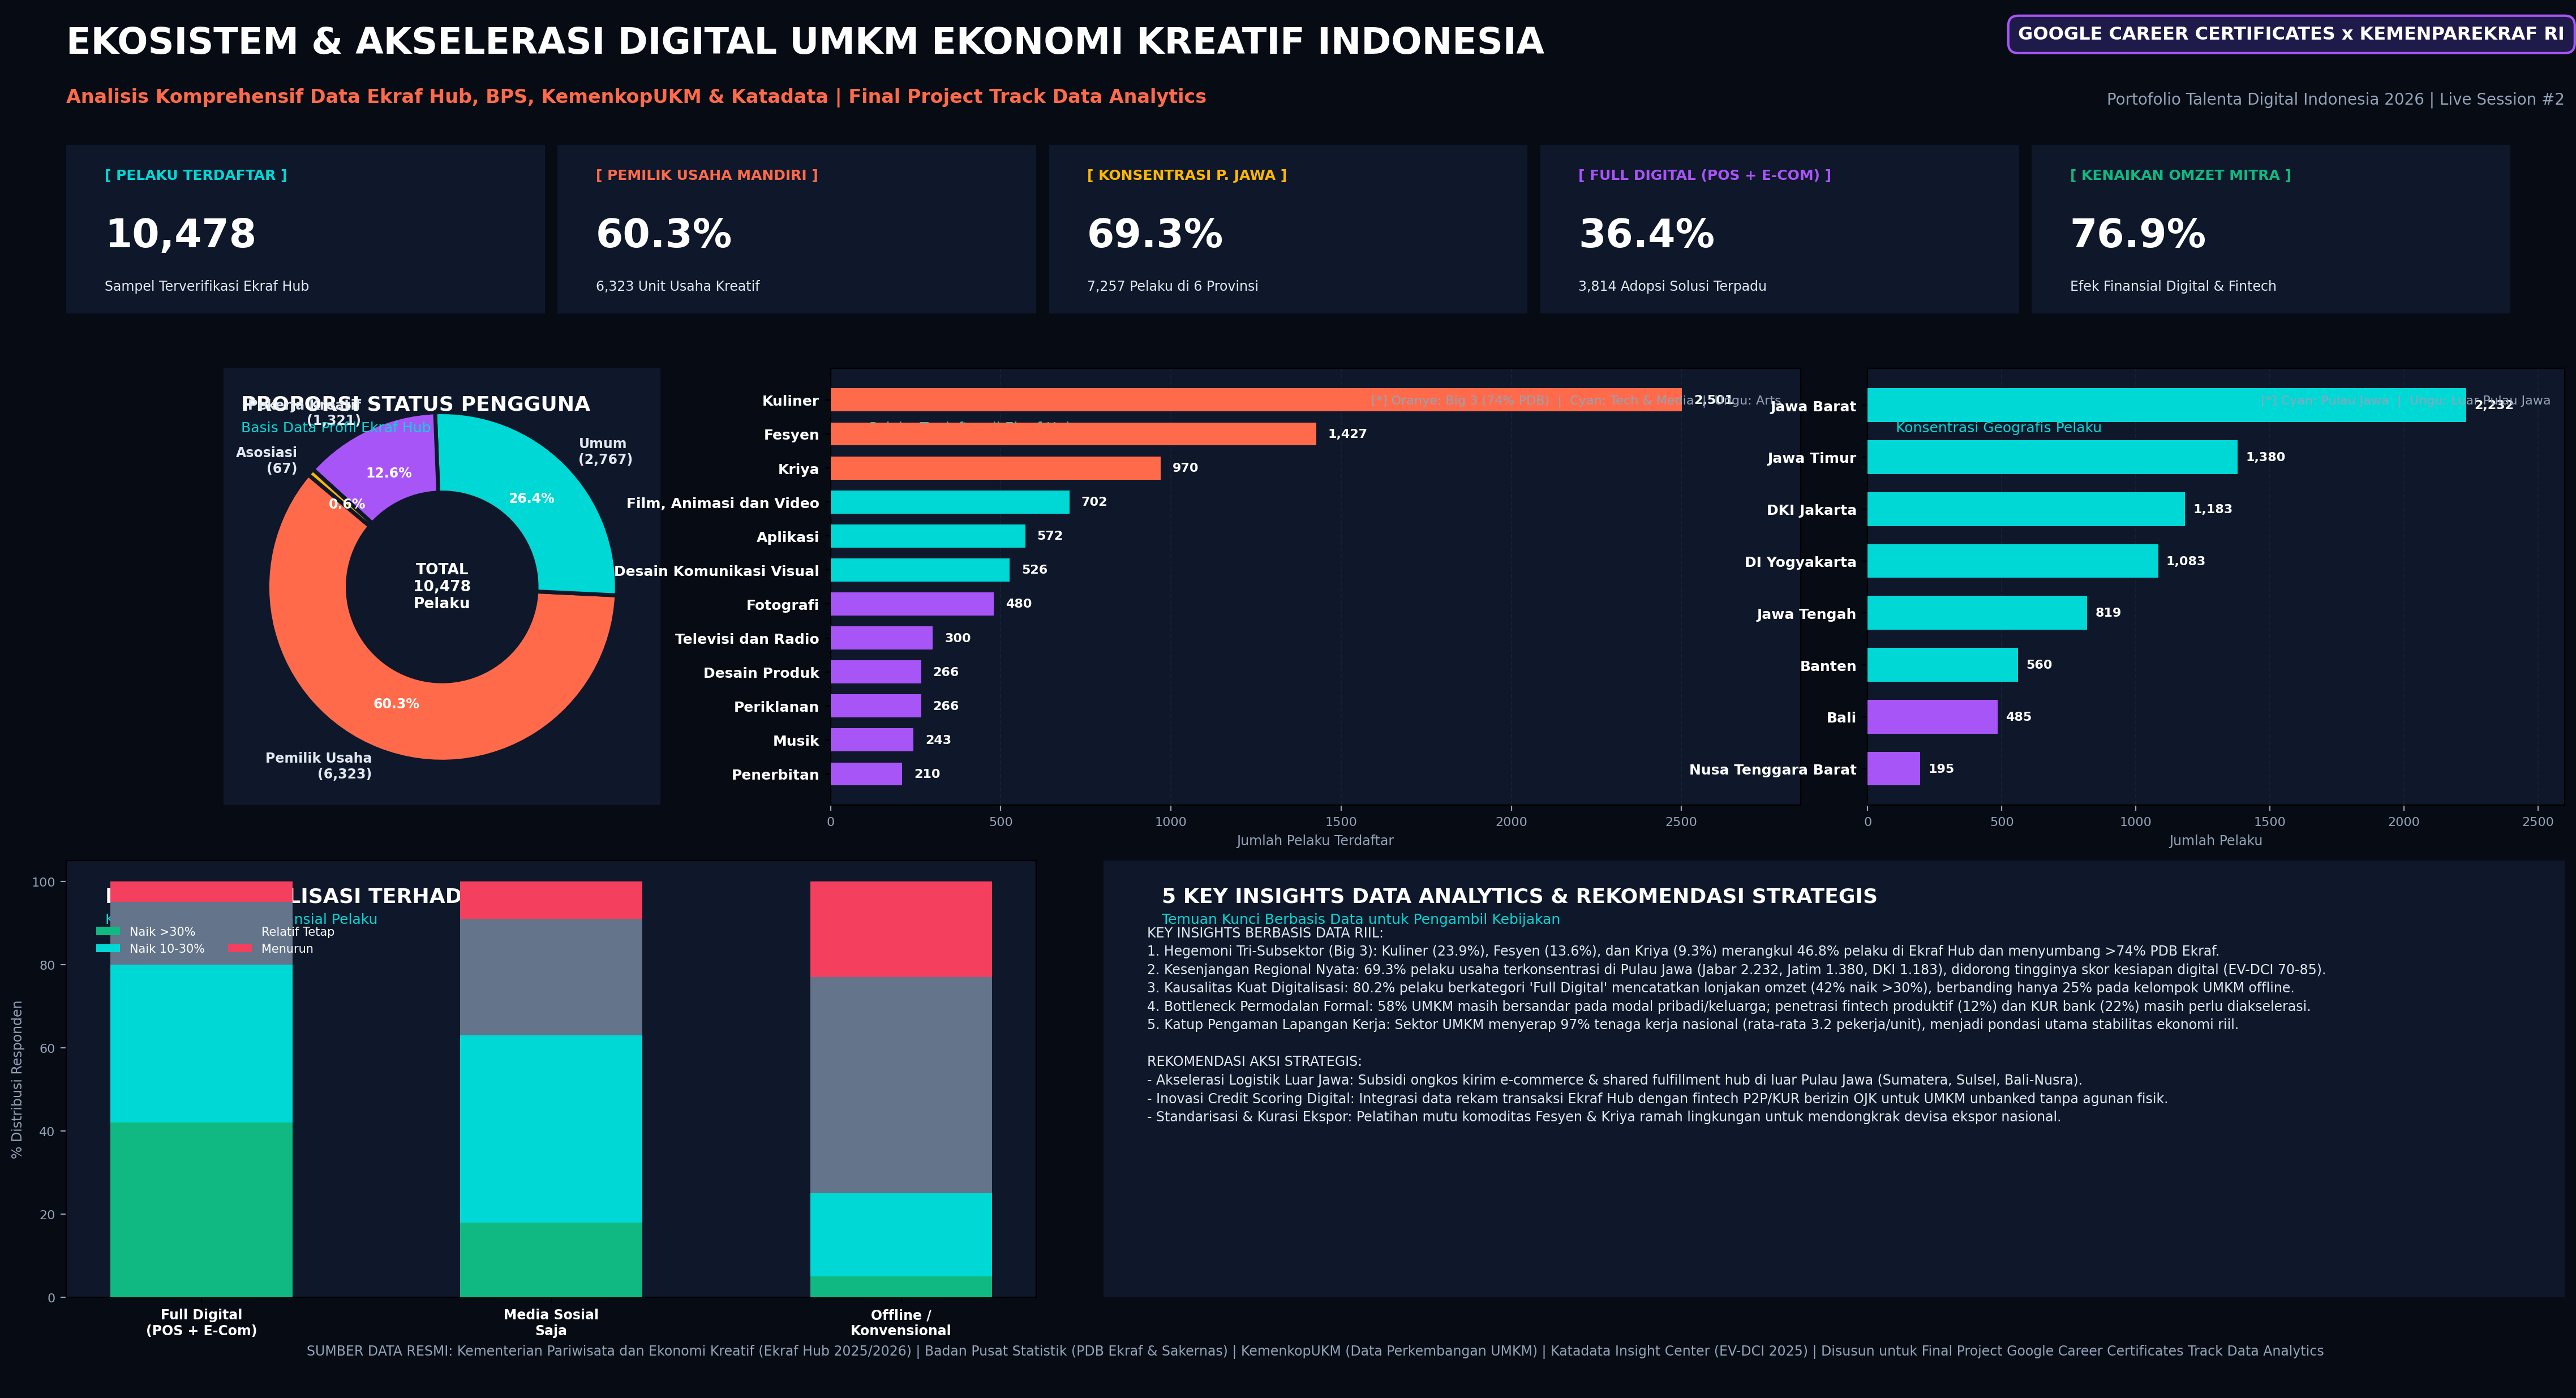

The dashboard page shown, as its layout file describes it:
{"tool":"powerbi","page":{"name":"1. Overview Ekosistem Ekraf","canvas":[1280,720],"ordinal":0},"visuals":[{"type":"textbox","box":[20,15,840,55],"z":1},{"type":"slicer","fields":{"Values":["Data_Responden_Hub.Wilayah_Pulau"]},"box":[870,15,190,55],"z":2},{"type":"slicer","fields":{"Values":["Data_Responden_Hub.Status_Pengguna"]},"box":[1070,15,190,55],"z":3},{"type":"card","fields":{"Fields":["Data_Responden_Hub.Total_Pengguna_Terdaftar"]},"box":[20,80,235,95],"z":4},{"type":"card","fields":{"Fields":["Data_Responden_Hub.Persen_Pemilik_Usaha"]},"box":[270,80,235,95],"z":5},{"type":"card","fields":{"Fields":["Data_Responden_Hub.Persen_Konsentrasi_Jawa"]},"box":[520,80,235,95],"z":6},{"type":"card","fields":{"Fields":["Data_Responden_Hub.Persen_Adopsi_Digital"]},"box":[770,80,235,95],"z":7},{"type":"card","fields":{"Fields":["Data_Responden_Hub.Persen_Kenaikan_Pendapatan"]},"box":[1020,80,240,95],"z":8},{"type":"donutChart","fields":{"Category":["Data_Responden_Hub.Status_Pengguna"],"Y":["Data_Responden_Hub.Total_Pengguna_Terdaftar"]},"box":[20,190,360,340],"z":9},{"type":"barChart","fields":{"Category":["Subsektor_Ekraf.Subsektor"],"Y":["Data_Responden_Hub.Total_Pengguna_Terdaftar"]},"box":[395,190,475,340],"z":10},{"type":"barChart","fields":{"Category":["Provinsi_Ekraf.Provinsi"],"Y":["Data_Responden_Hub.Total_Pengguna_Terdaftar"]},"box":[885,190,375,340],"z":11},{"type":"textbox","box":[20,545,1240,160],"z":12}]}

Visuals, with their boxes on the page's 1280x720 design canvas (x1, y1, x2, y2). These are canvas units, not pixel positions in the 2576x1398 screenshot, which may show the page scaled, cropped or inside an application window:
textbox: 20 15 860 70
slicer - Data_Responden_Hub.Wilayah_Pulau: 870 15 1060 70
slicer - Data_Responden_Hub.Status_Pengguna: 1070 15 1260 70
card - Data_Responden_Hub.Total_Pengguna_Terdaftar: 20 80 255 175
card - Data_Responden_Hub.Persen_Pemilik_Usaha: 270 80 505 175
card - Data_Responden_Hub.Persen_Konsentrasi_Jawa: 520 80 755 175
card - Data_Responden_Hub.Persen_Adopsi_Digital: 770 80 1005 175
card - Data_Responden_Hub.Persen_Kenaikan_Pendapatan: 1020 80 1260 175
donutChart - Data_Responden_Hub.Status_Pengguna x Data_Responden_Hub.Total_Pengguna_Terdaftar: 20 190 380 530
barChart - Subsektor_Ekraf.Subsektor x Data_Responden_Hub.Total_Pengguna_Terdaftar: 395 190 870 530
barChart - Provinsi_Ekraf.Provinsi x Data_Responden_Hub.Total_Pengguna_Terdaftar: 885 190 1260 530
textbox: 20 545 1260 705
